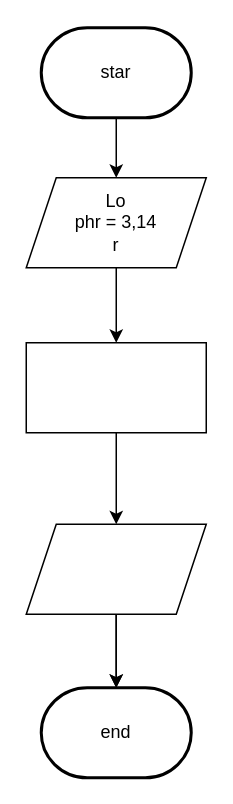
Image size: 233x804. Some labels were removed from this diagram. The shapes that lost their labels are listed below. From the top down, each one's centre as x and y in pixels, then its label:
At point 115,387: "Lo = phr x r x r".
At point 115,568: "Lo".
